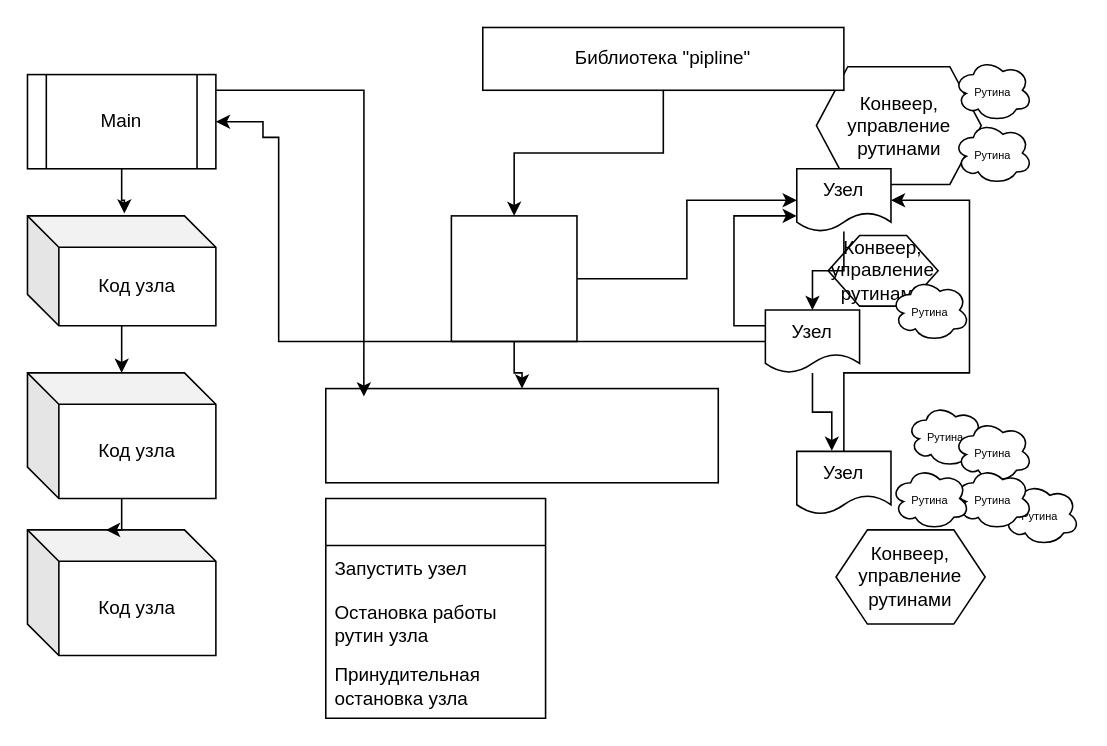
This 1107x746 diagram has some shape labels left out. Each missing label, with the box of its shape:
Pip-pipline мэнеджер: (450, 214, 577, 341)
Методы: (324, 497, 546, 718)
Управление узлами графа: (324, 387, 718, 483)
